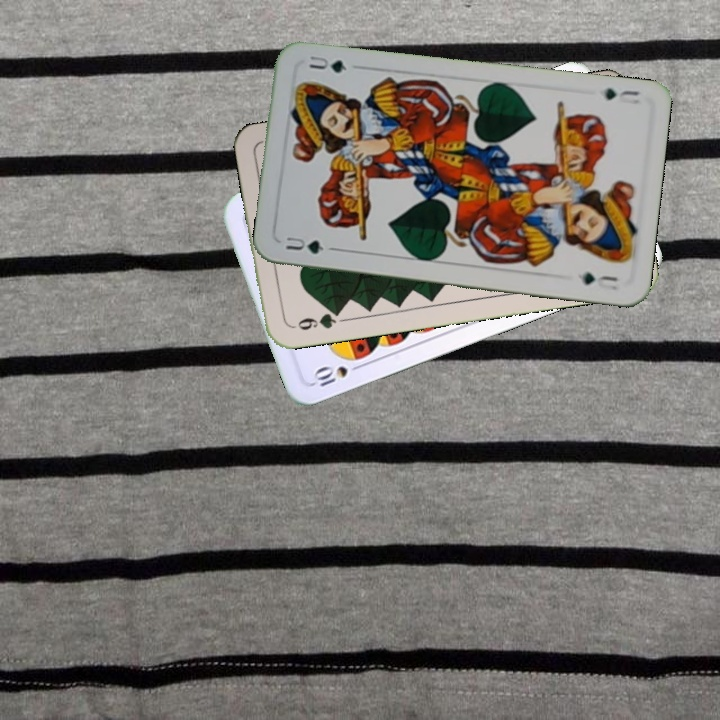G9: (286, 306, 344, 333)
GU: (282, 233, 328, 257), (601, 84, 644, 107)
S10: (309, 359, 366, 391)
